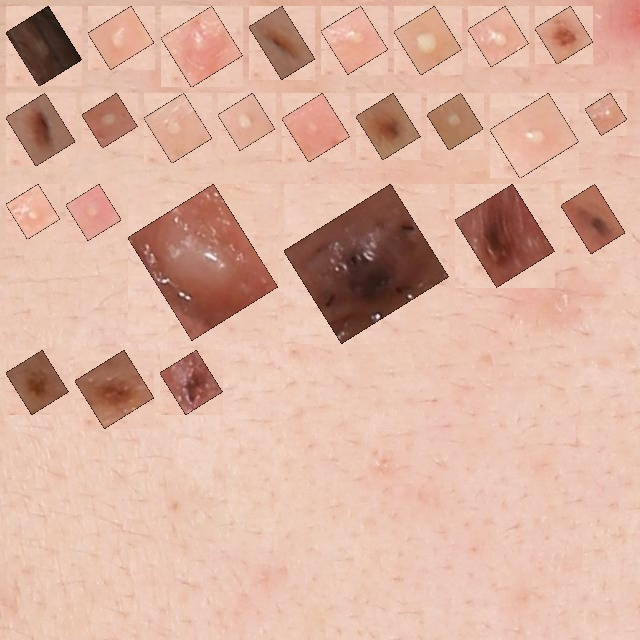nevus: (295, 195, 438, 332), (466, 195, 544, 276), (86, 361, 143, 417), (17, 104, 64, 155), (260, 17, 304, 68), (572, 195, 614, 243), (367, 104, 409, 149), (17, 361, 57, 403), (171, 361, 211, 403), (546, 17, 582, 53)
pustule: (139, 195, 267, 329), (501, 104, 568, 167), (172, 17, 232, 76), (17, 17, 71, 75), (155, 104, 201, 152), (405, 17, 451, 64), (293, 104, 339, 151), (332, 17, 377, 63), (99, 17, 143, 58), (479, 17, 518, 56), (229, 104, 264, 139), (438, 104, 472, 139), (77, 195, 110, 229), (93, 104, 126, 137), (17, 195, 49, 228), (596, 104, 616, 124)
